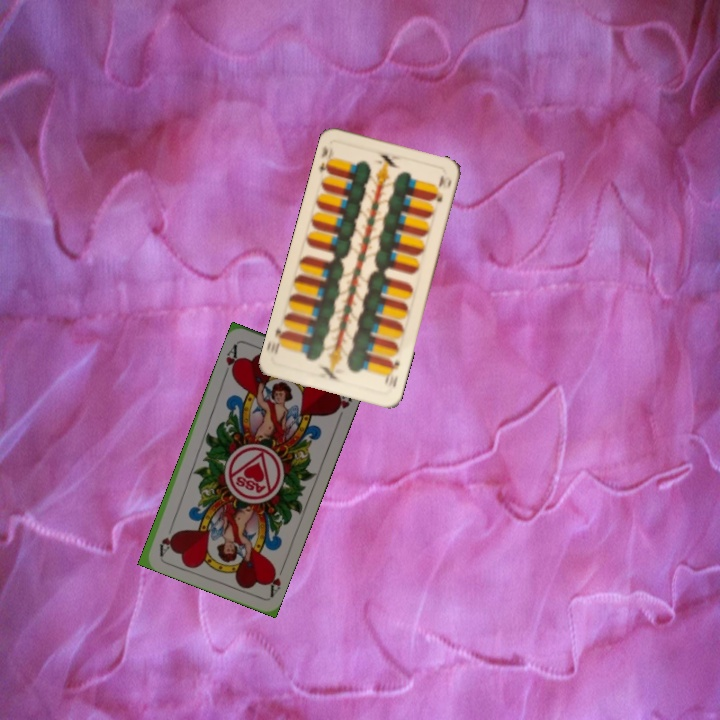E10: (315, 141, 338, 177), (381, 354, 402, 390)
HA: (262, 560, 288, 599), (220, 340, 242, 379)
